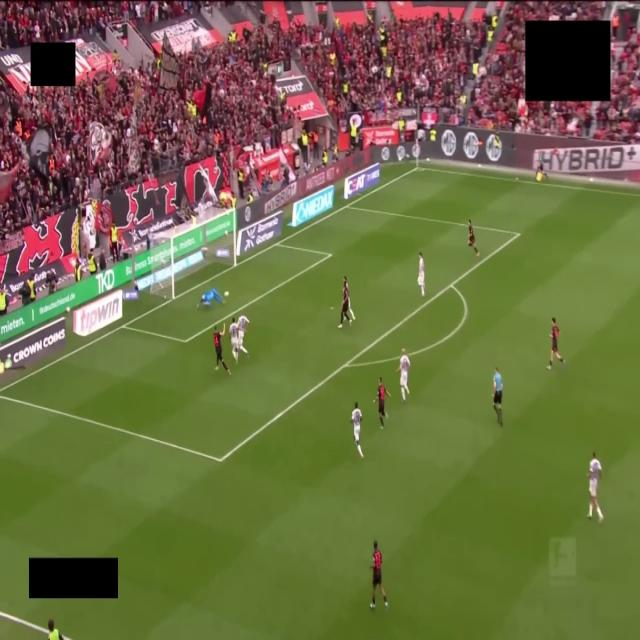ball: (225, 292, 228, 296)
player: (370, 541, 388, 609), (588, 452, 603, 521), (548, 318, 565, 369), (213, 326, 230, 375), (374, 377, 390, 428), (339, 277, 354, 327), (397, 349, 410, 402), (351, 402, 363, 458), (197, 288, 224, 307), (238, 315, 249, 355), (229, 318, 238, 362), (468, 220, 479, 256), (418, 252, 424, 296)
referee: (493, 368, 502, 425)
